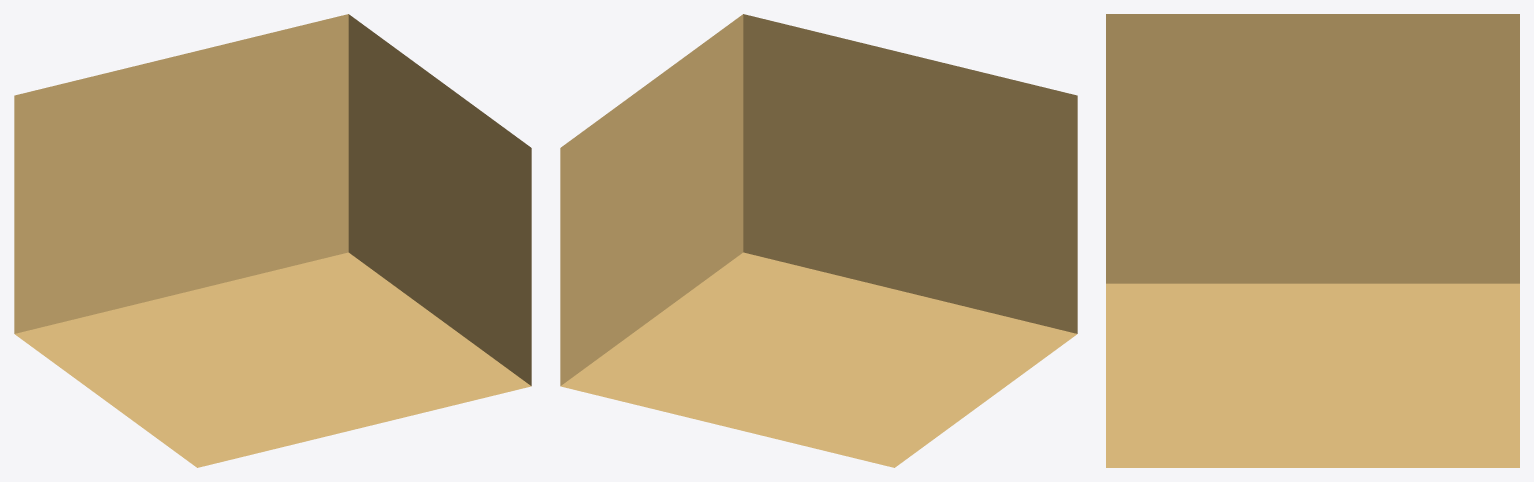
Rendered from lighting-fixtures-temple-mandap-003.glb.
The picture shows the model from 3 angles, left to right: view 1: azimuth 30°, elevation 25°; view 2: azimuth 150°, elevation 25°; view 3: azimuth 270°, elevation 25°; orthographic projection. The views are drawn at different scales.
Parts seen in each view (by area): view 1: Temple Mandap Lighting Fixtures; view 2: Temple Mandap Lighting Fixtures; view 3: Temple Mandap Lighting Fixtures.
Boxes of the visible parts, left/top/right/bottom form: Temple Mandap Lighting Fixtures: left=14, top=14, right=531, bottom=467; Temple Mandap Lighting Fixtures: left=560, top=14, right=1077, bottom=467; Temple Mandap Lighting Fixtures: left=1106, top=14, right=1519, bottom=467.
Bounding box in the file's own units: 2.7 × 1.84 × 2.56.
